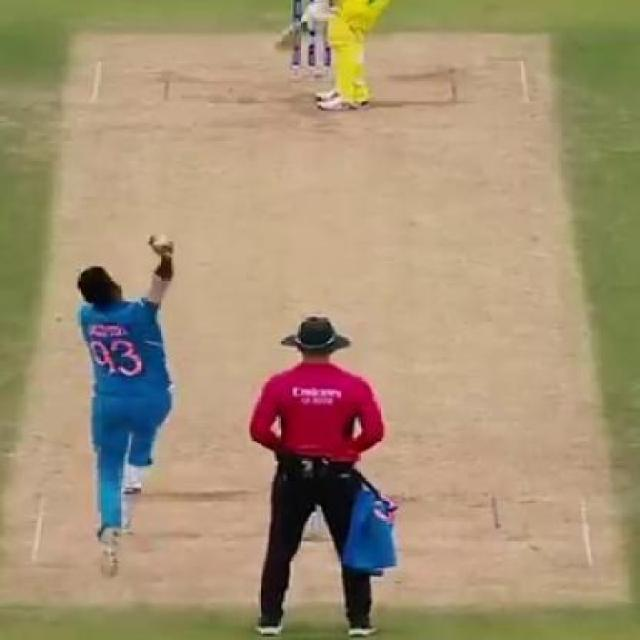Cricket ball: (152, 229, 174, 253)
